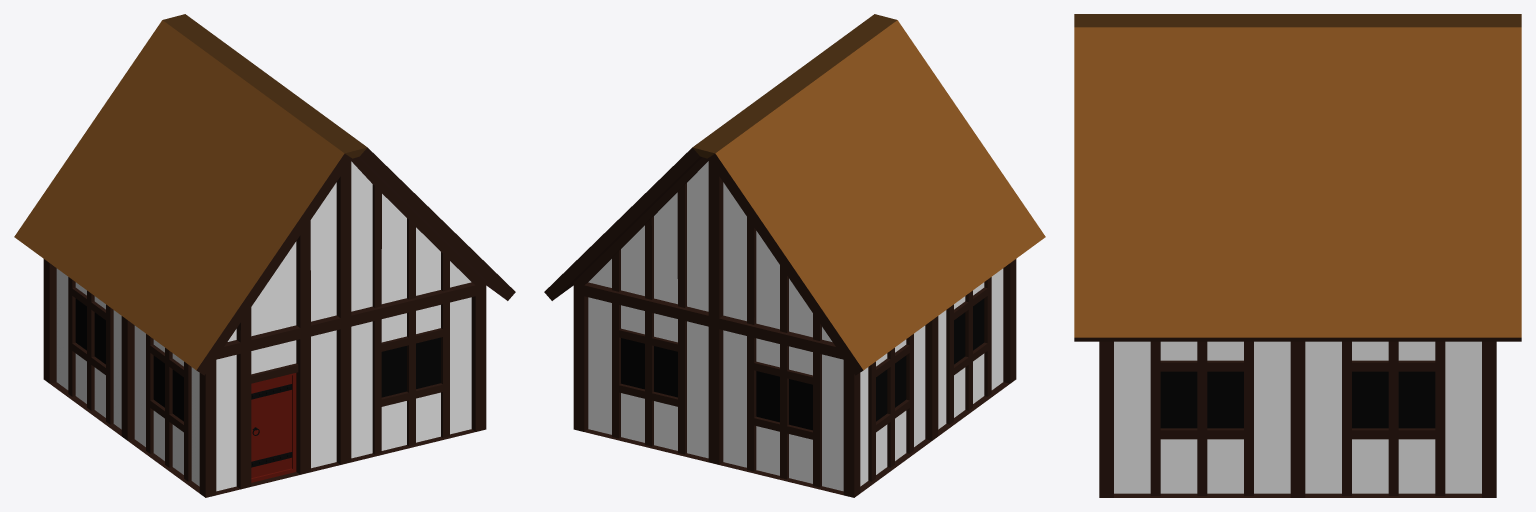
File: House001.FBX
3 views of the same model, side by side, from view 1: azimuth 30°, elevation 25°; view 2: azimuth 150°, elevation 25°; view 3: azimuth 270°, elevation 25° (orthographic). The views are drawn at different scales.
Visible parts, largest first — view 1: House; view 2: House; view 3: House.
Boxes of the visible parts, x1,y1,x2,y2 form: House: (14, 14, 515, 497); House: (544, 14, 1045, 497); House: (1074, 14, 1521, 497).
Size of the model in its own units: 91.07 by 87.41 by 90.
